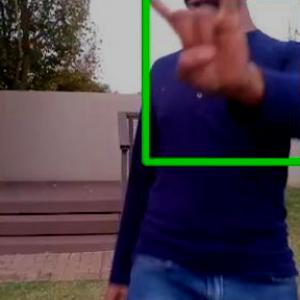takeoff-hand: (129, 0, 255, 100)
